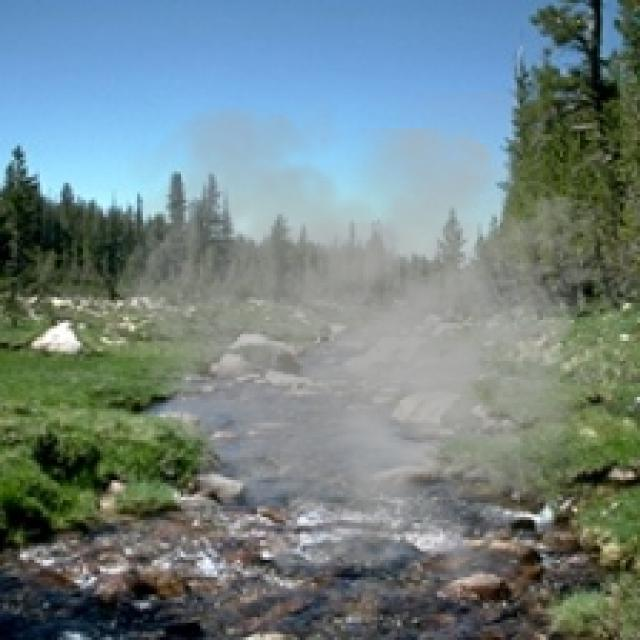smoke: (94, 91, 637, 614)
